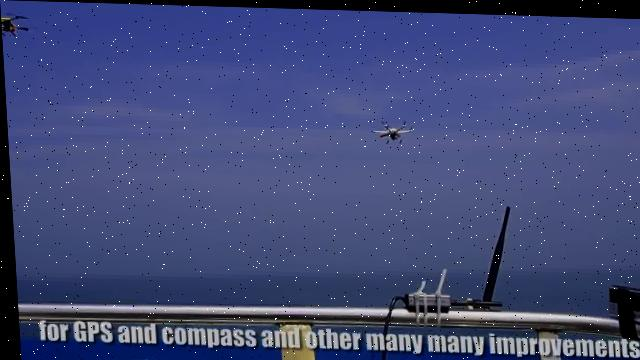drone: (369, 114, 414, 141)
